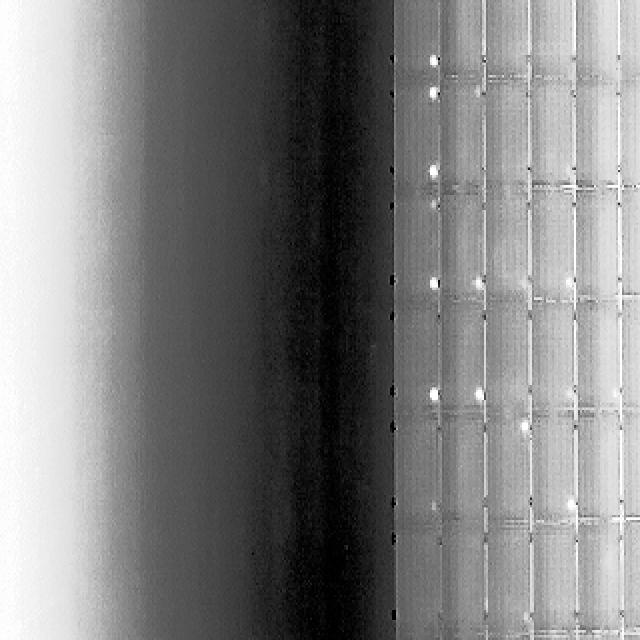Hotspots: (467, 271, 486, 296), (468, 388, 486, 411), (561, 493, 578, 517), (512, 271, 528, 296), (606, 384, 622, 408), (510, 417, 527, 439), (428, 384, 442, 408), (562, 272, 576, 296), (560, 386, 575, 408), (428, 159, 442, 182), (428, 82, 443, 103), (425, 52, 440, 72), (431, 271, 441, 295)
PV-modules: (434, 77, 484, 190), (395, 529, 445, 640), (530, 301, 579, 414), (435, 302, 483, 416), (478, 301, 526, 415), (530, 414, 578, 526), (480, 192, 528, 304), (572, 414, 620, 526), (481, 527, 528, 640), (394, 410, 440, 524), (438, 527, 484, 640), (573, 300, 619, 413), (574, 517, 620, 630), (530, 191, 576, 304), (530, 522, 577, 632), (438, 194, 485, 304), (572, 192, 618, 303), (529, 80, 576, 188), (479, 76, 524, 188), (394, 303, 439, 415), (440, 416, 486, 524), (572, 76, 617, 186), (483, 417, 529, 524), (395, 191, 438, 303), (395, 84, 438, 196), (432, 0, 482, 85), (570, 0, 616, 85), (482, 0, 528, 80), (528, 0, 574, 80), (394, 0, 436, 80), (616, 78, 640, 188), (618, 295, 640, 413), (618, 190, 640, 300), (620, 412, 640, 520), (622, 518, 640, 630), (616, 0, 640, 78)
